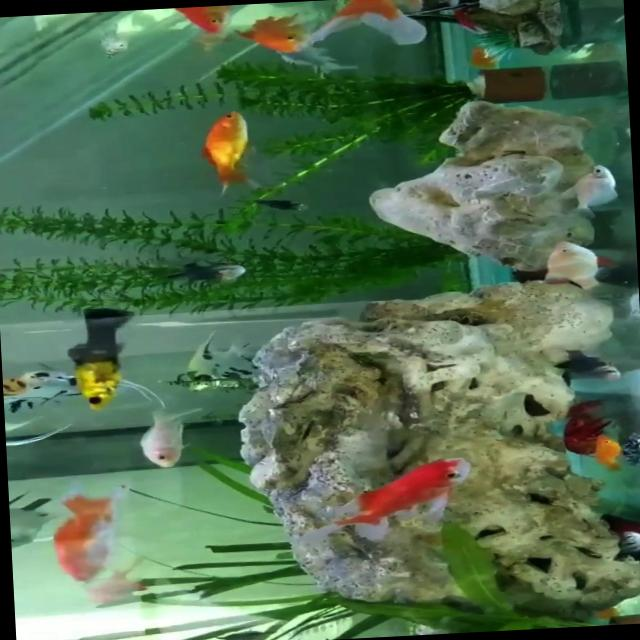GoldFish: (284, 444, 488, 560), (42, 482, 138, 592), (191, 102, 266, 202), (132, 400, 210, 478), (231, 8, 319, 56)
